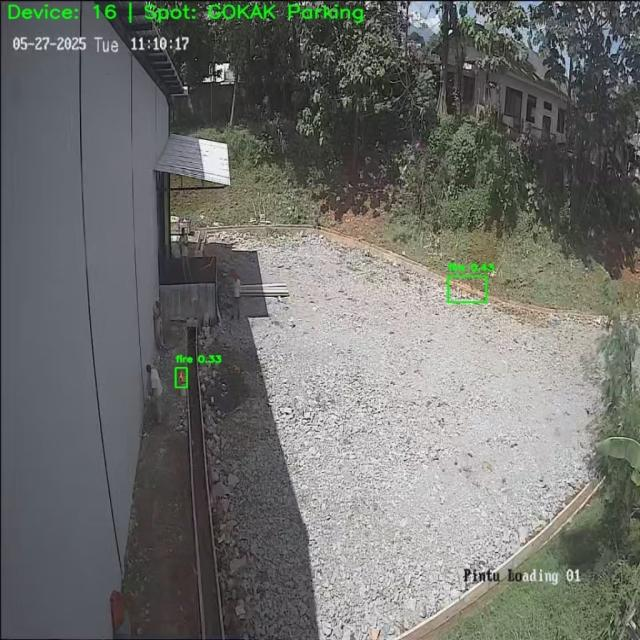Fire: (173, 362, 192, 398)
